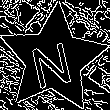N_N: (29, 30, 78, 89)
